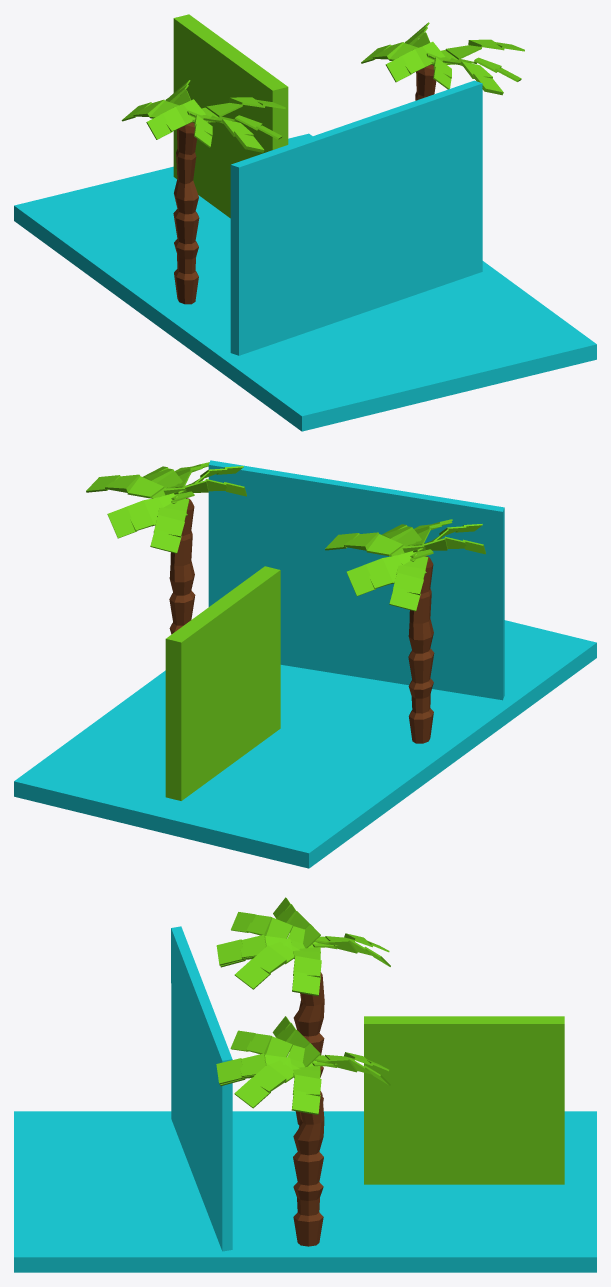
Rendered from float8.fbx.
3 renders of one model, top to bottom at view 1: azimuth 30°, elevation 25°; view 2: azimuth 150°, elevation 25°; view 3: azimuth 270°, elevation 25°, orthographic.
Visible parts, largest first — view 1: Cube.078; view 2: Cube.078; view 3: Cube.078.
Part boxes in pixels (x1,y1,x2,y2): Cube.078: (14,14,596,431); Cube.078: (14,460,596,868); Cube.078: (14,897,596,1272).
Size of the model in its own units: 1161 by 639 by 1517.
